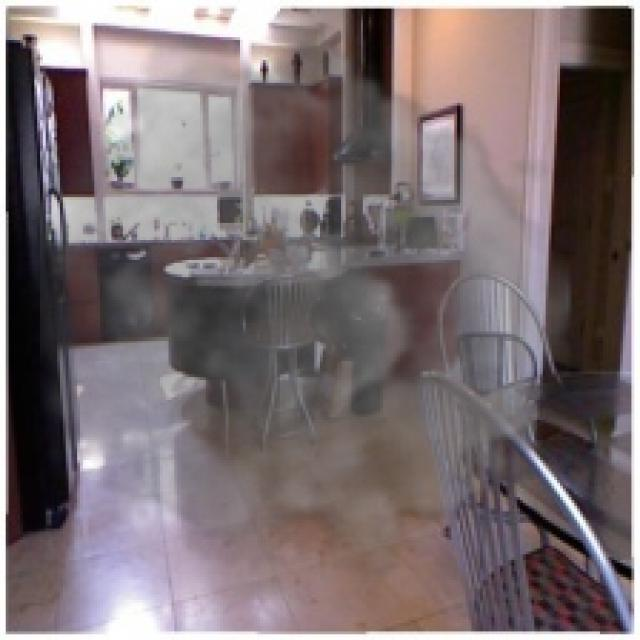smoke: (40, 17, 571, 583)
